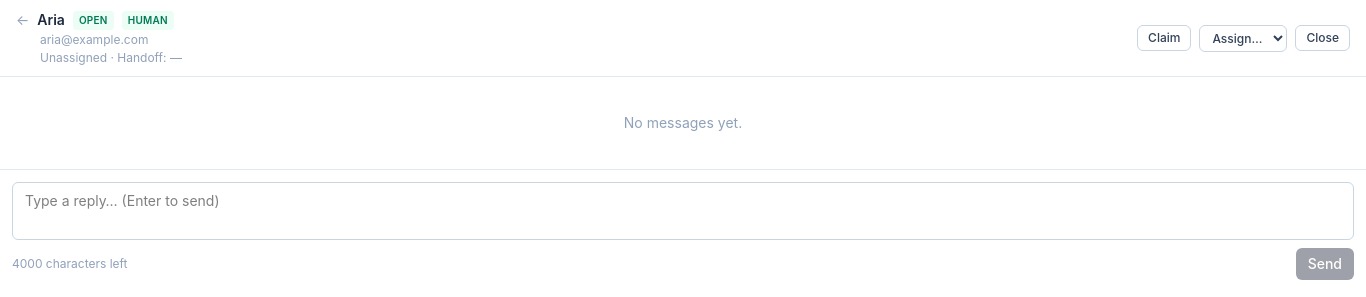
ConversationPane › sends over the socket and renders the server-confirmed message
The image size is (1366, 297).
Type "replying now" into the text box labelled "reply". click: (683, 211)
box: [12,182,1354,240]
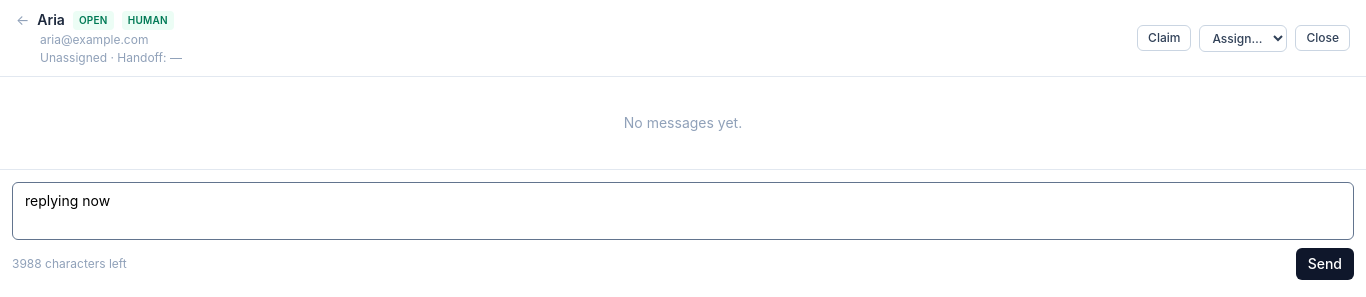
Click the button "Send". click: click(1325, 264)
box: [1296,248,1354,280]
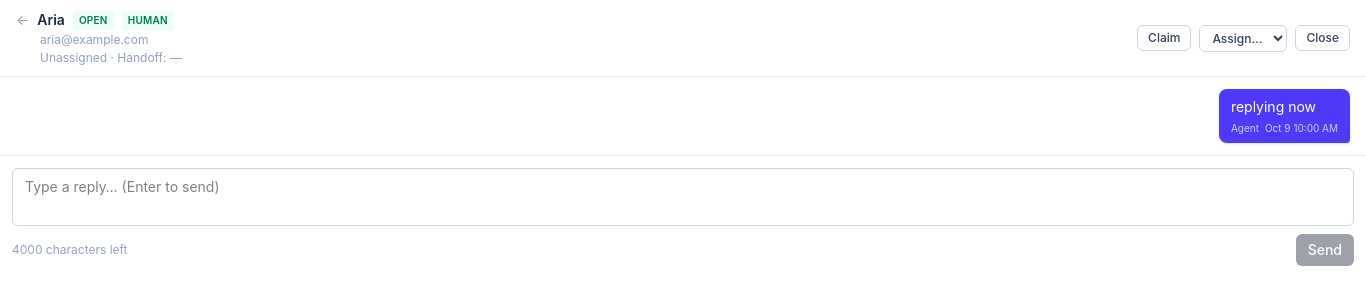
Now the text "replying now" is shown once, box [1231,98,1316,115]
Now the text box labelled "reply" is empty, box [12,168,1354,226]
